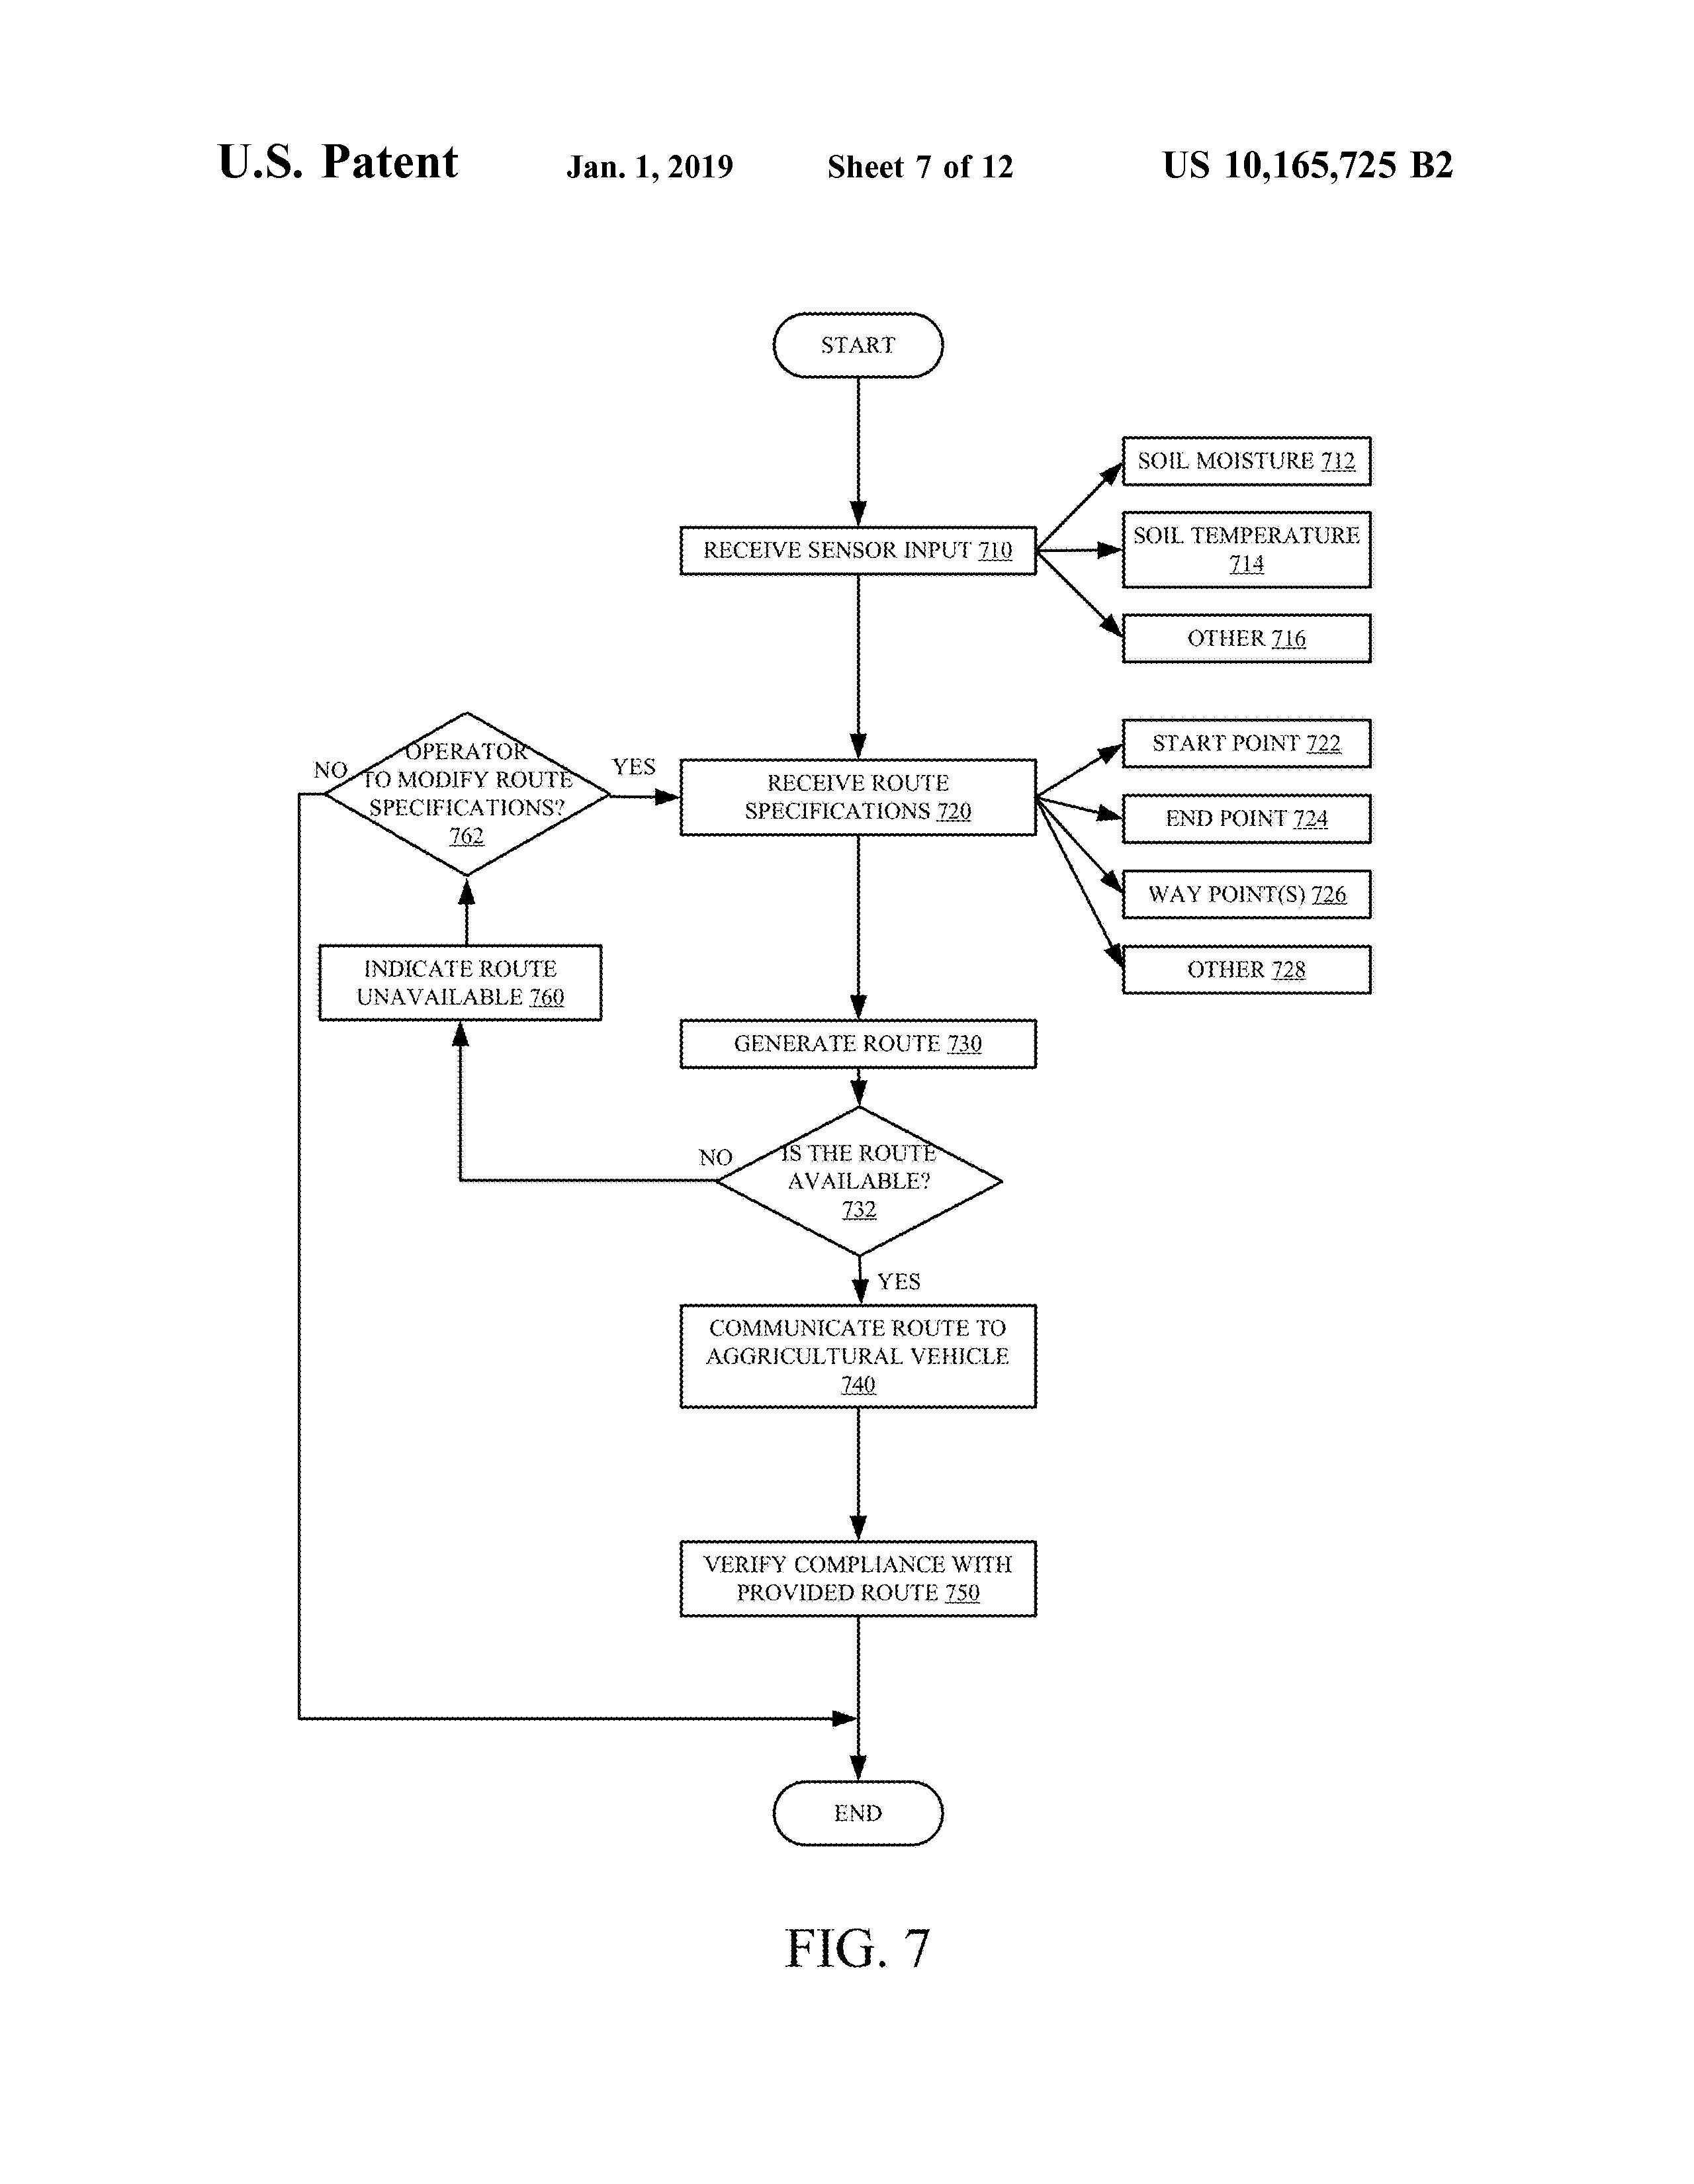patent image: (249, 296, 1395, 2000)
